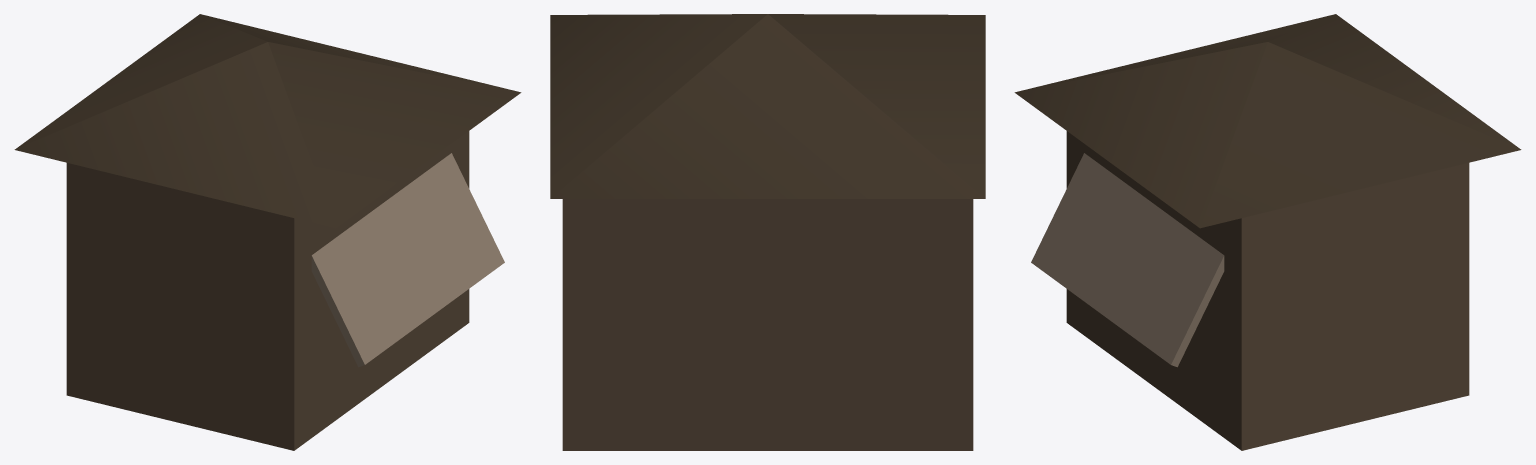
The model's file is garage.glb.
The picture shows the model from 3 angles, left to right: view 1: azimuth 30°, elevation 25°; view 2: azimuth 150°, elevation 25°; view 3: azimuth 270°, elevation 25°; orthographic projection. The views are drawn at different scales.
Size of the model in its own units: 2.9 by 2 by 2.9.
